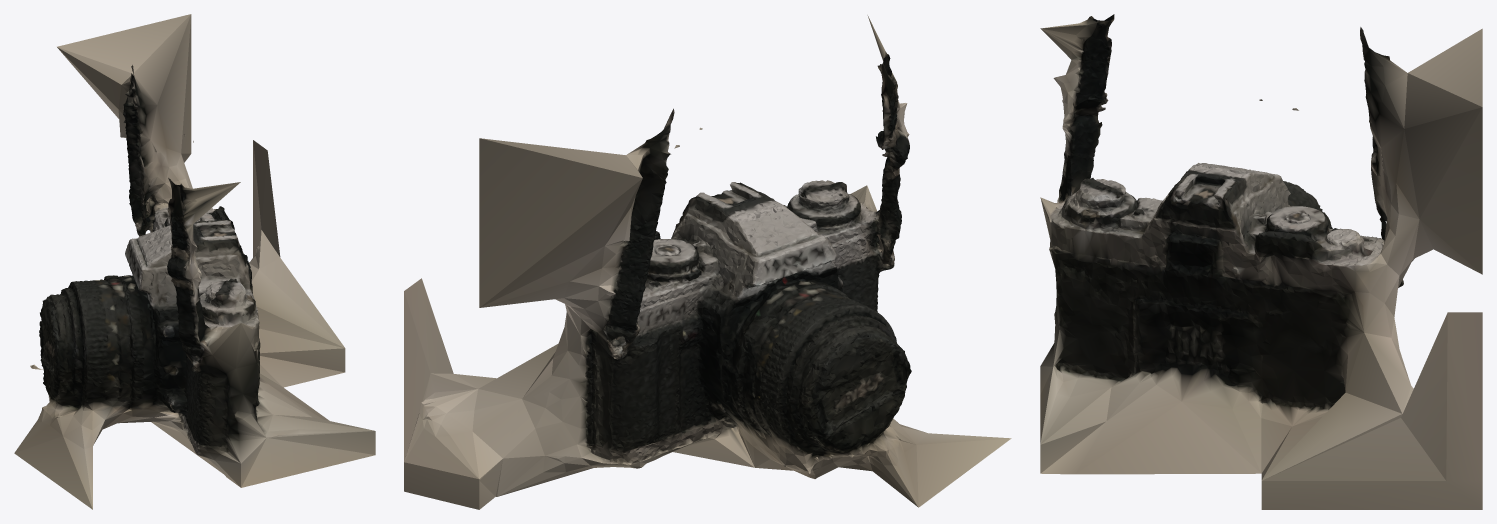
The model's file is Summers-Castaneda-COMM169B-Week4-_LOD0.fbx.
3 views of the same model, side by side, from view 1: azimuth 30°, elevation 25°; view 2: azimuth 150°, elevation 25°; view 3: azimuth 270°, elevation 25° (orthographic). The views are drawn at different scales.
Visible parts, largest first — view 1: Summers-Castaneda-COMM169B-Week4-_LOD0; view 2: Summers-Castaneda-COMM169B-Week4-_LOD0; view 3: Summers-Castaneda-COMM169B-Week4-_LOD0.
Part boxes in pixels (x1,y1,x2,y2): Summers-Castaneda-COMM169B-Week4-_LOD0: [14, 14, 375, 509]; Summers-Castaneda-COMM169B-Week4-_LOD0: [404, 15, 1011, 509]; Summers-Castaneda-COMM169B-Week4-_LOD0: [1040, 14, 1482, 509].
Bounding box in the file's own units: 60.53 × 62.72 × 57.93.
